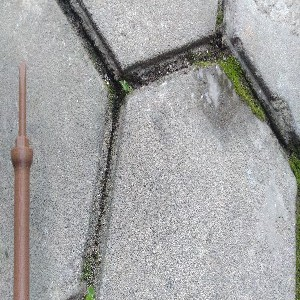obeng: (10, 61, 33, 300)
